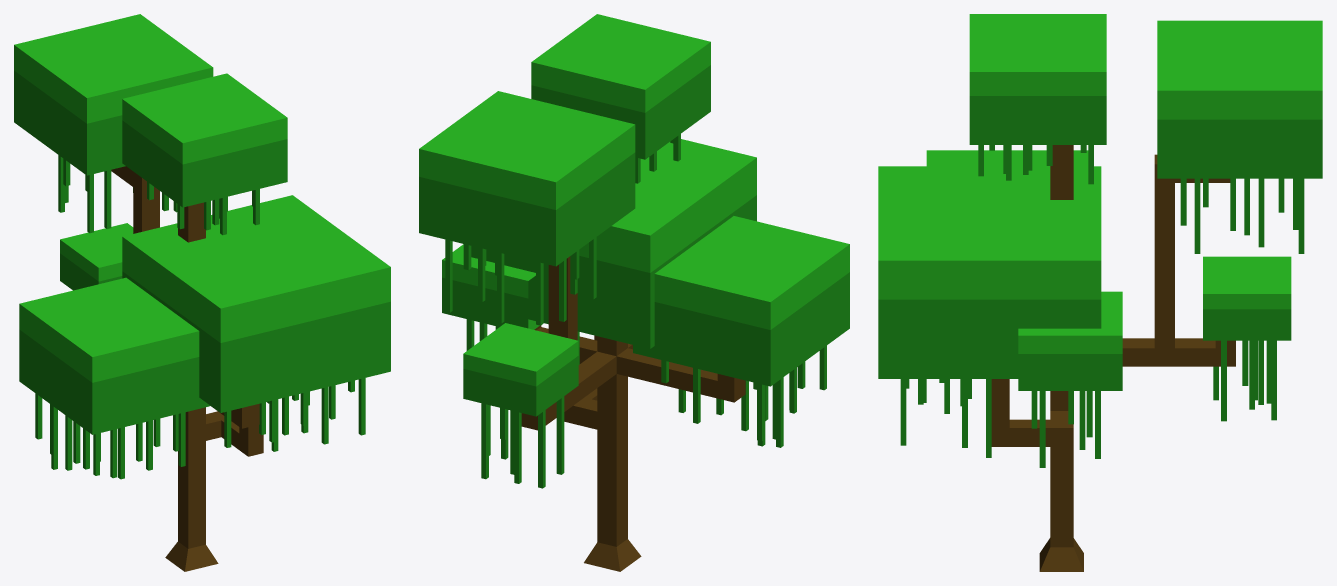
The model's file is cryingtree4.fbx.
3 renders of one model, left to right at view 1: azimuth 30°, elevation 25°; view 2: azimuth 150°, elevation 25°; view 3: azimuth 270°, elevation 25°, orthographic. The views are drawn at different scales.
Visible parts, largest first — view 1: cryingtree4; view 2: cryingtree4; view 3: cryingtree4.
Part boxes in pixels (left/top/right/bottom): cryingtree4: left=14, top=14, right=390, bottom=571; cryingtree4: left=419, top=14, right=849, bottom=571; cryingtree4: left=878, top=14, right=1322, bottom=571.
Bounding box in the file's own units: 1349 × 2046 × 1581.
Materials: 1 (1 with a texture image).
